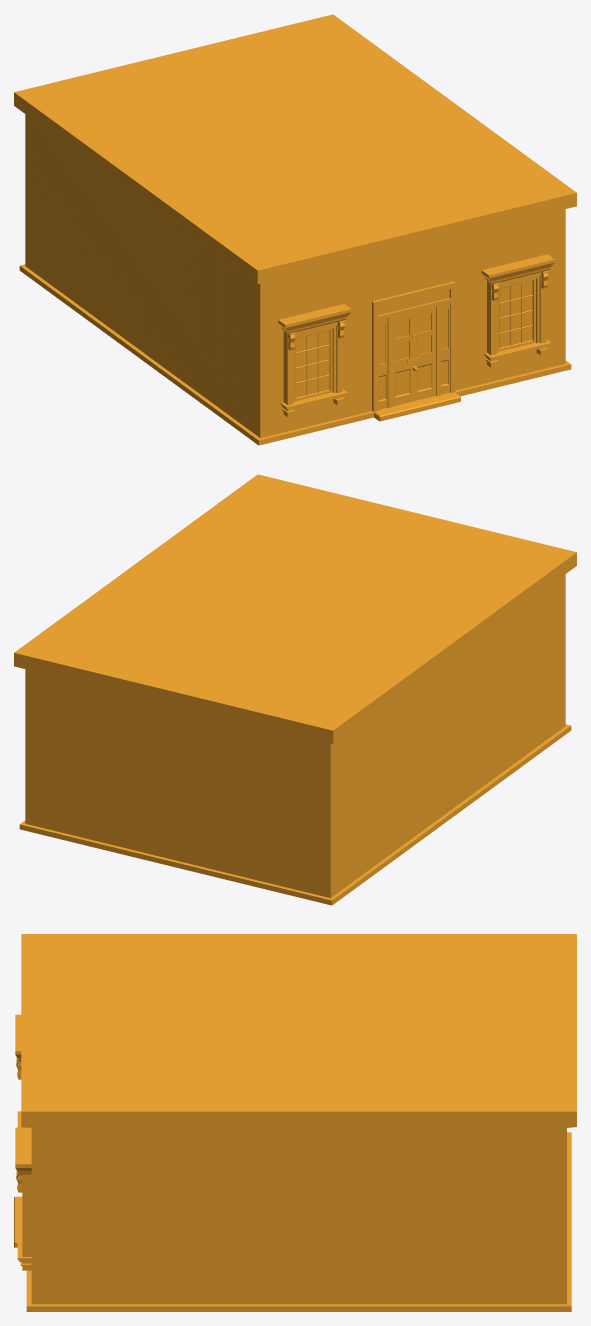
File: SM_Floor_Bottom_Wide_Door_F_Steampunk.fbx
3 views of the same model, one above another, from view 1: azimuth 30°, elevation 25°; view 2: azimuth 150°, elevation 25°; view 3: azimuth 270°, elevation 25° (orthographic). The views are drawn at different scales.
Parts seen in each view (by area): view 1: floor-bottom-wide-door-f-steampunk; view 2: floor-bottom-wide-door-f-steampunk; view 3: floor-bottom-wide-door-f-steampunk.
Part boxes in pixels (x1=…): floor-bottom-wide-door-f-steampunk: x1=14, y1=14, x2=576, y2=445; floor-bottom-wide-door-f-steampunk: x1=14, y1=474, x2=576, y2=905; floor-bottom-wide-door-f-steampunk: x1=14, y1=934, x2=576, y2=1311.
Size of the model in its own units: 9.41 by 5 by 12.62.
